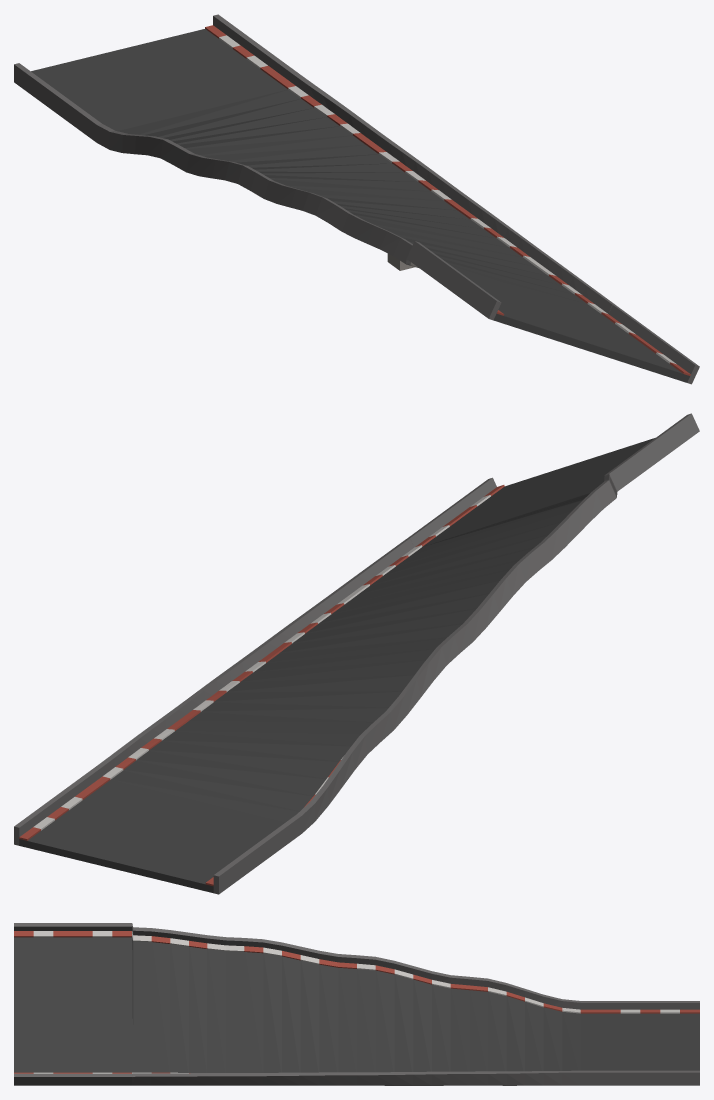
File: tp-bank-entry-b.glb
The picture shows the model from 3 angles, top to bottom: view 1: azimuth 30°, elevation 25°; view 2: azimuth 150°, elevation 25°; view 3: azimuth 270°, elevation 25°; orthographic projection. The views are drawn at different scales.
Visible parts, largest first — view 1: tp-bank-entry-b; view 2: tp-bank-entry-b; view 3: tp-bank-entry-b.
Boxes of the visible parts, <box> form: tp-bank-entry-b: <box>14,14,699,384</box>; tp-bank-entry-b: <box>14,413,699,894</box>; tp-bank-entry-b: <box>14,923,699,1085</box>.
Size of what is drawn, in the model's own units: 15.95 by 9.45 by 62.42.
1 material, 1 textured.
